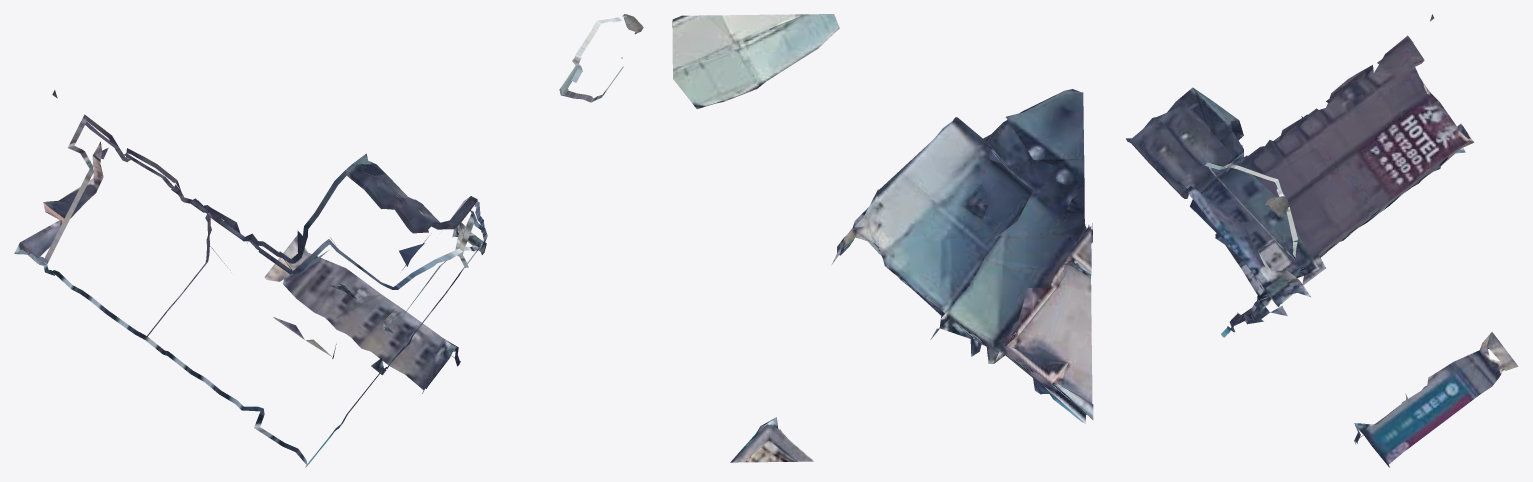
The picture shows the model from 3 angles, left to right: view 1: azimuth 30°, elevation 25°; view 2: azimuth 150°, elevation 25°; view 3: azimuth 270°, elevation 25°; orthographic projection. The views are drawn at different scales.
Bounding box in the file's own units: 52.41 × 36.14 × 40.58.
1 material, 1 textured.
